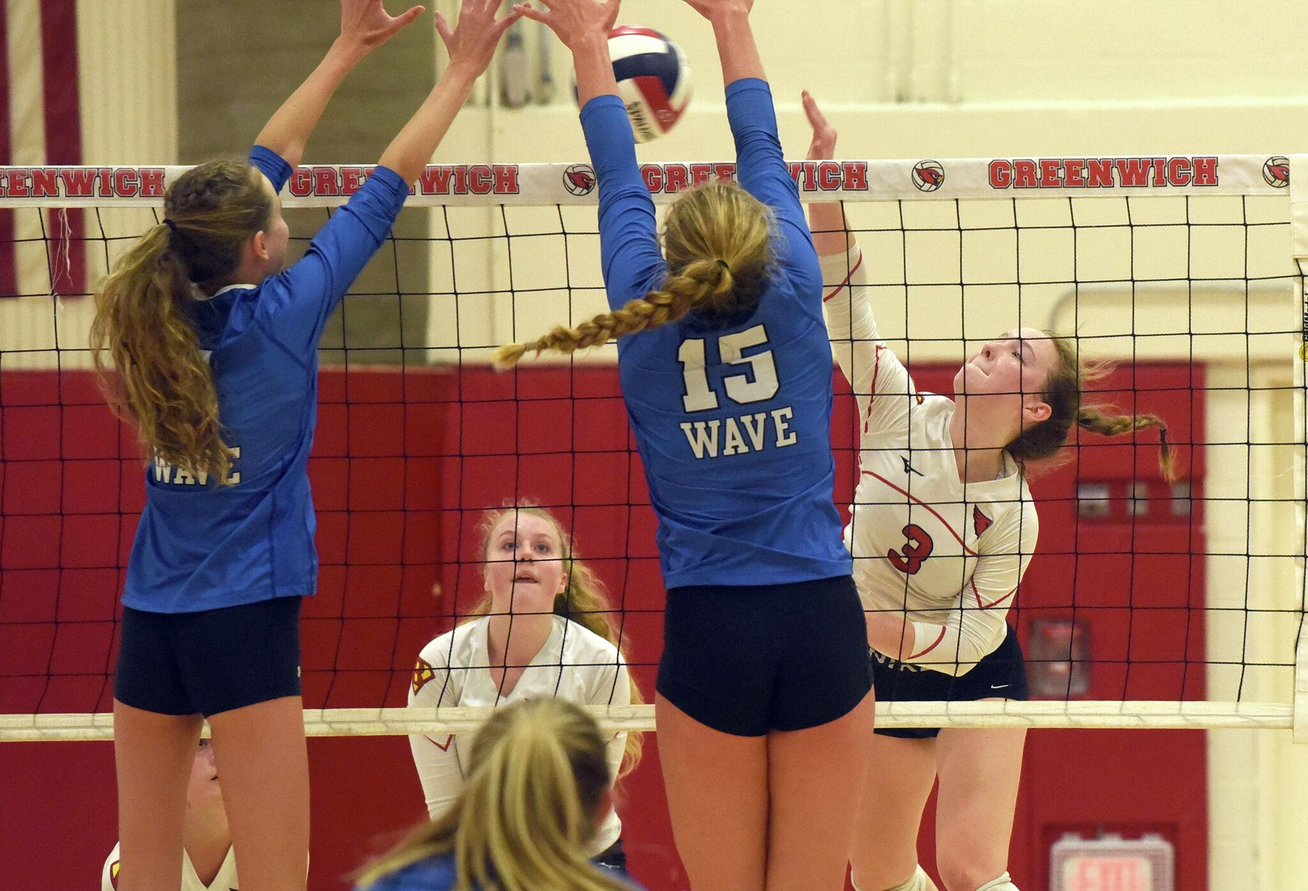ballon_volley: (570, 23, 694, 147)
